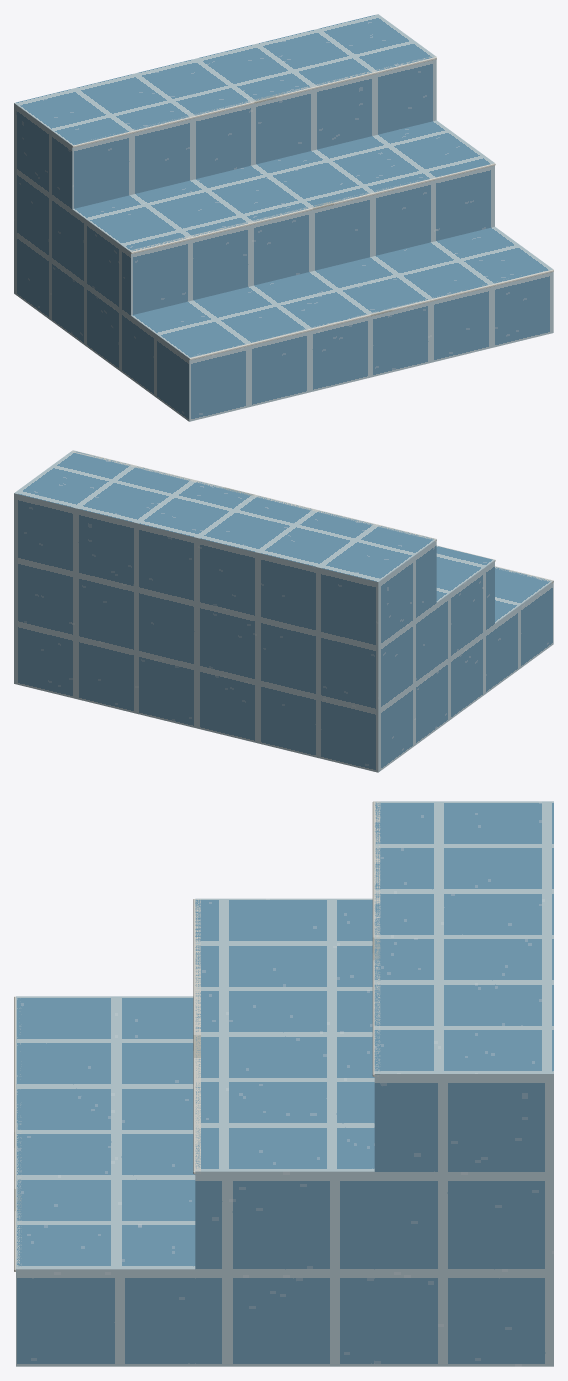
The model's file is pool_entry_steps.glb.
3 renders of one model, top to bottom at view 1: azimuth 30°, elevation 25°; view 2: azimuth 150°, elevation 25°; view 3: azimuth 270°, elevation 25°, orthographic. The views are drawn at different scales.
Parts seen in each view (by area): view 1: pool_pool_entry_steps; view 2: pool_pool_entry_steps; view 3: pool_pool_entry_steps.
Part boxes in pixels (<box>): pool_pool_entry_steps: <box>14,14,553,421</box>; pool_pool_entry_steps: <box>14,450,553,772</box>; pool_pool_entry_steps: <box>14,801,553,1366</box>.
Size of the model in its own units: 1.2 by 0.6 by 1.
Materials: 2 (2 with a texture image).
